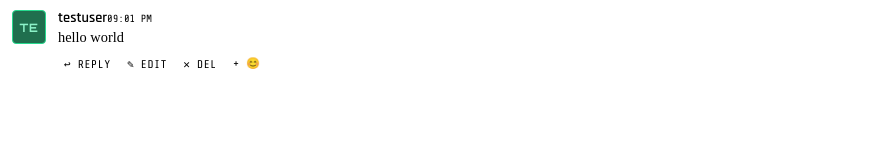
MessageItem › activates edit mode when edit button clicked
This screenshot has width=875, height=160.
Click the button "✎ EDIT".
click(147, 65)  # box [121,53,173,77]
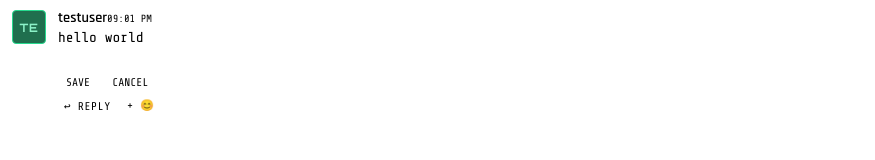
Expected: the text box showing "hello world" is shown, [58,27,858,70]
